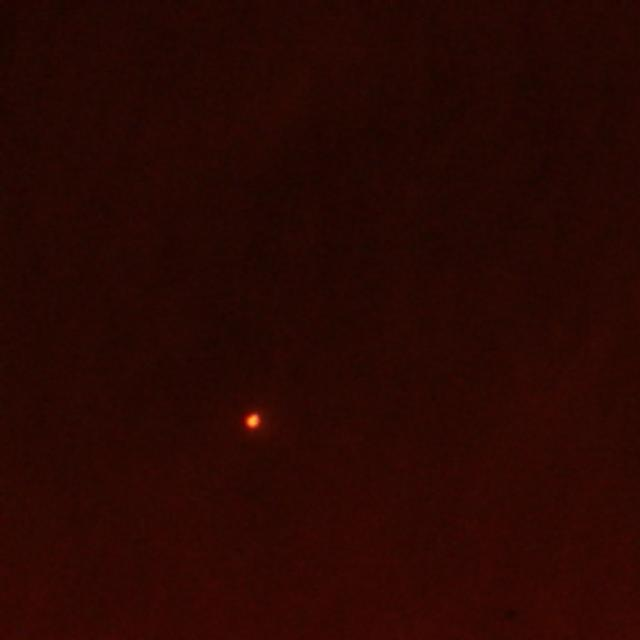Fragment: (245, 412, 261, 430)
